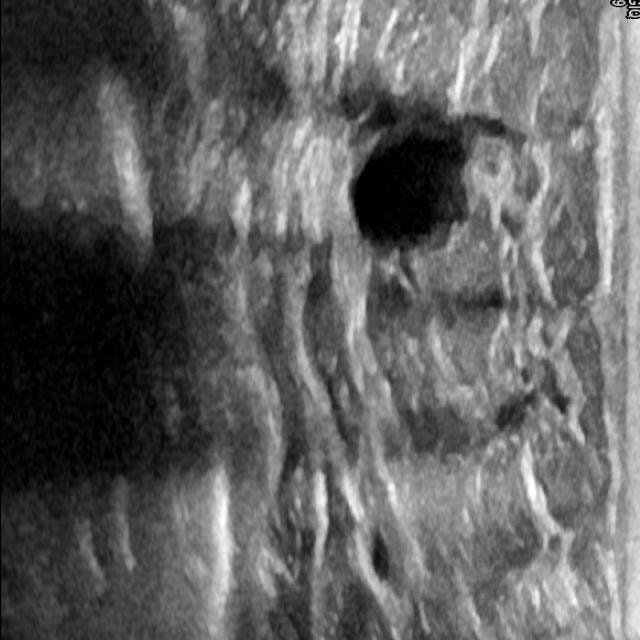Benign: (342, 131, 476, 254)
